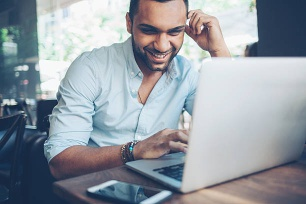male: (126, 1, 191, 74)
